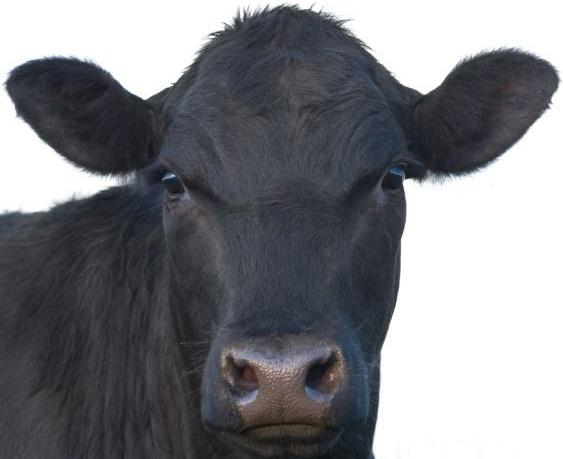muzzles: (197, 328, 368, 457)
